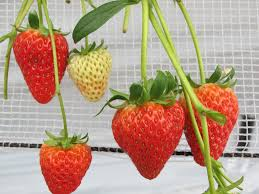ripe: (108, 90, 183, 181), (179, 75, 242, 170), (7, 22, 66, 105), (40, 135, 95, 193)
unripe: (66, 40, 115, 103)
